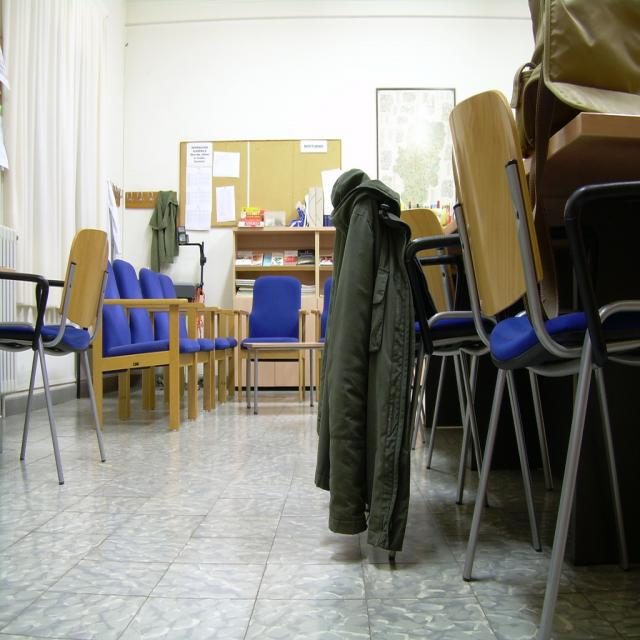chair: (448, 90, 605, 593), (526, 181, 639, 640), (521, 2, 640, 304), (21, 229, 110, 478), (404, 231, 486, 486), (138, 265, 225, 429), (0, 267, 62, 483), (239, 274, 307, 414)
desk: (442, 128, 640, 566)
